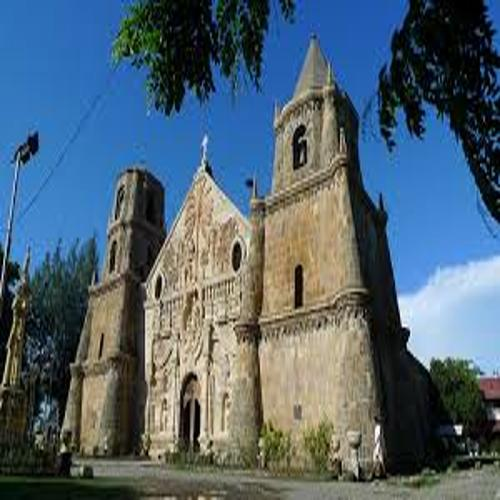Miagao Church: (52, 25, 398, 468)
